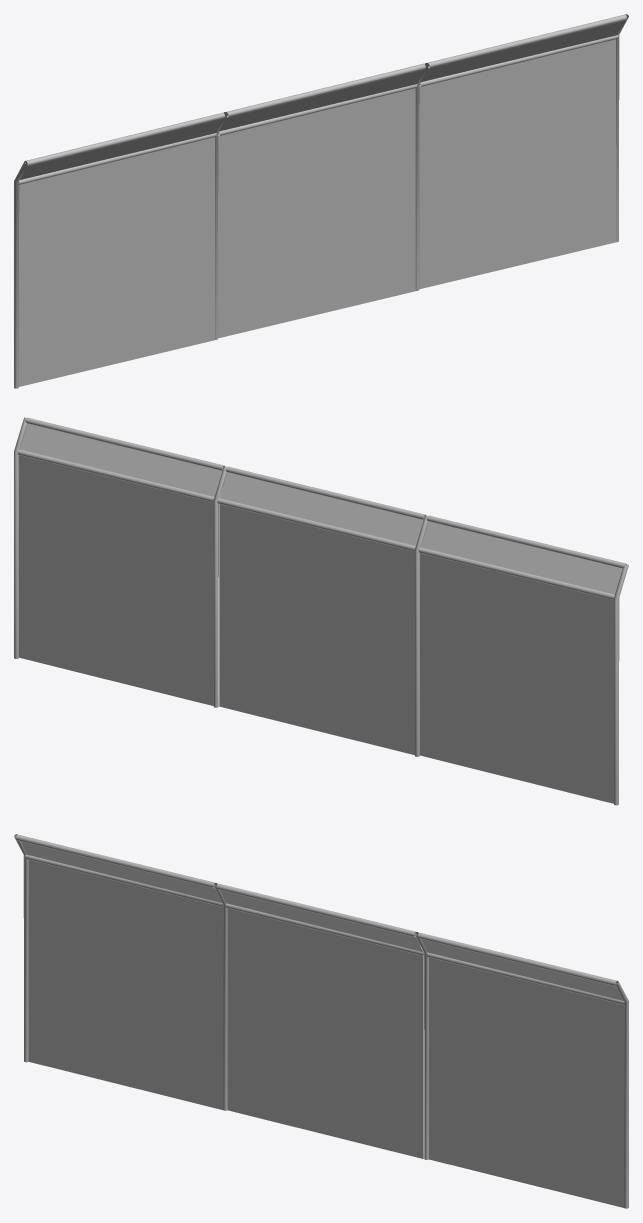
The model's file is fence.obj.
The picture shows the model from 3 angles, top to bottom: view 1: azimuth 30°, elevation 25°; view 2: azimuth 150°, elevation 25°; view 3: azimuth 330°, elevation 25°; orthographic projection.
Parts seen in each view (by area): view 1: wire fence.001, wire fence, wire fence.002; view 2: wire fence, wire fence.001, wire fence.002; view 3: wire fence, wire fence.001, wire fence.002.
Boxes of the visible parts, <box> form: wire fence.001: <box>14,112,227,388</box>; wire fence: <box>415,14,628,290</box>; wire fence.002: <box>218,63,425,338</box>; wire fence: <box>14,417,226,707</box>; wire fence.001: <box>415,515,628,805</box>; wire fence.002: <box>217,466,426,755</box>; wire fence: <box>414,932,628,1208</box>; wire fence.001: <box>14,834,227,1110</box>; wire fence.002: <box>216,883,423,1158</box>.
Size of the model in its own units: 13.6 by 5.02 by 0.4847.
